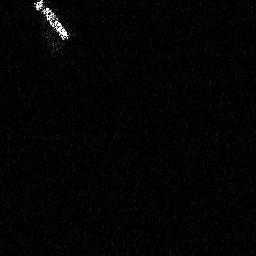ship: (31, 1, 68, 41)
